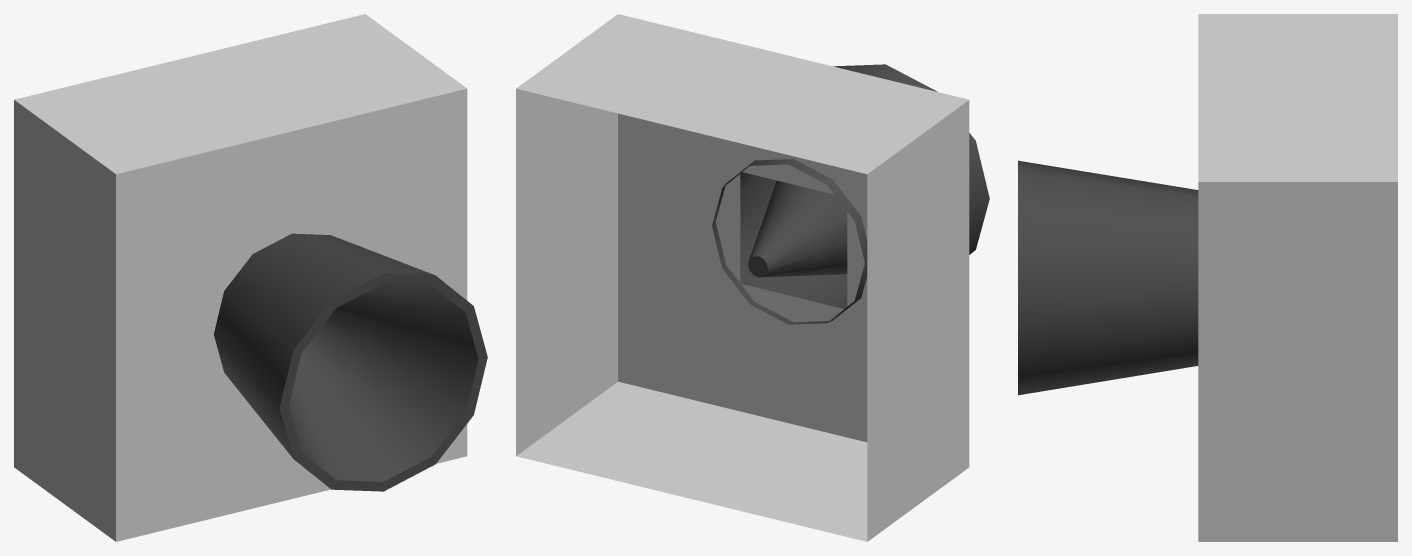
Rendered from ph_rcs.sturdy.gltf.
3 renders of one model, left to right at view 1: azimuth 30°, elevation 25°; view 2: azimuth 150°, elevation 25°; view 3: azimuth 270°, elevation 25°, orthographic. The views are drawn at different scales.
Visible parts, largest first — view 1: linrcsblk, linrcsnozzle; view 2: linrcsblk, linrcsnozzle; view 3: linrcsblk, linrcsnozzle.
Part boxes in pixels (x1=…): linrcsblk: x1=14, y1=14, x2=467, y2=541; linrcsnozzle: x1=213, y1=233, x2=487, y2=491; linrcsblk: x1=516, y1=14, x2=969, y2=541; linrcsnozzle: x1=712, y1=64, x2=989, y2=324; linrcsblk: x1=1198, y1=14, x2=1397, y2=541; linrcsnozzle: x1=1018, y1=160, x2=1198, y2=395.
Bounding box in the file's own units: 0.2035 × 0.2035 × 0.1946.
Materials: 1 (1 with a texture image).
